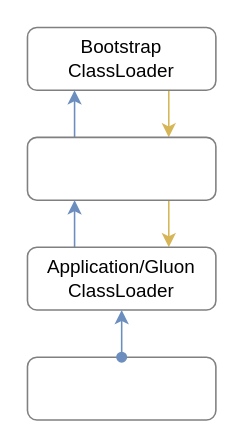
This 243x447 diagram has some shape labels left out. The centre of each missing label's shape, as x and y in pixels:
"Extension/Platform ClassLoader" belongs at (x=121, y=168).
"PluginClassLoader" belongs at (x=121, y=388).
